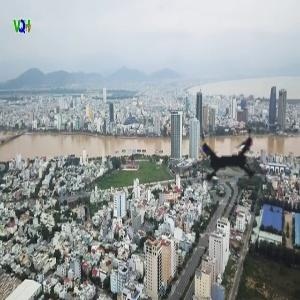drone: (161, 95, 292, 226)
